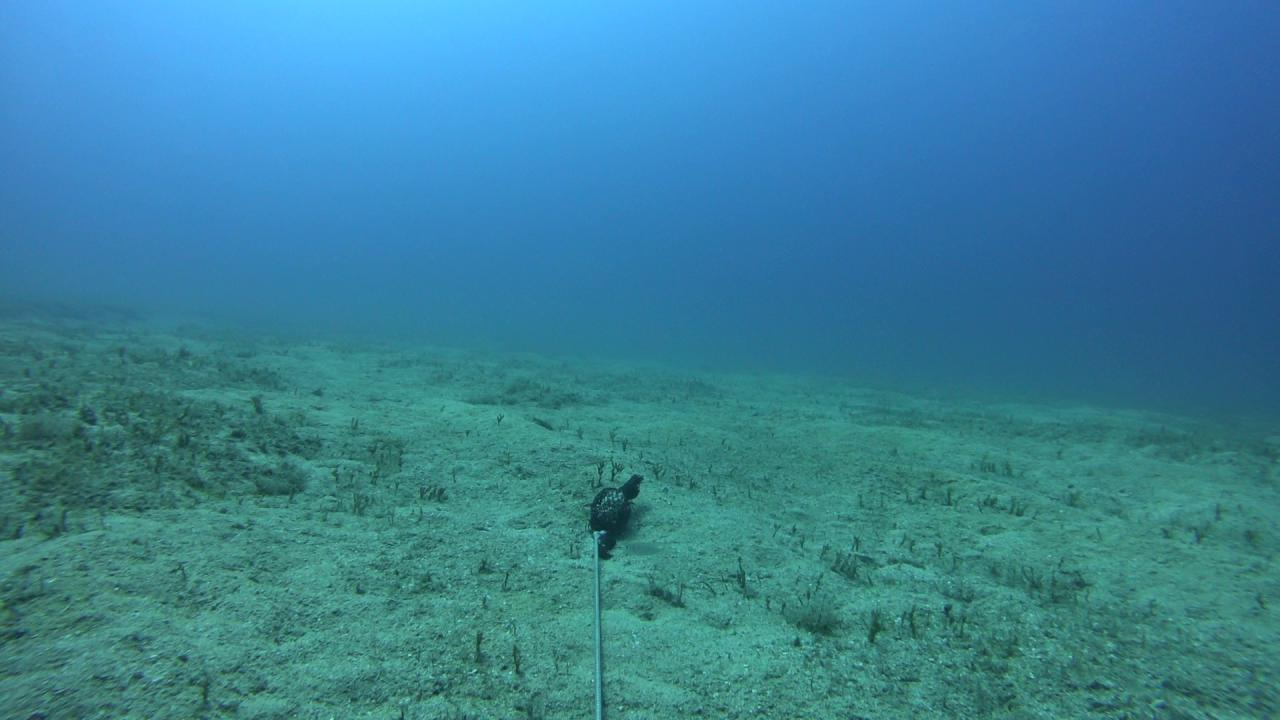pagellus: (623, 541, 671, 558)
